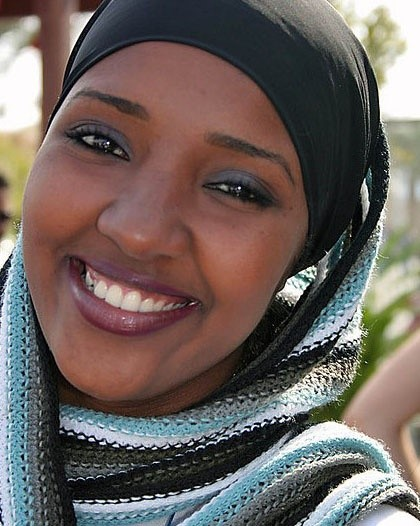face_no_mask: (20, 9, 323, 412)
